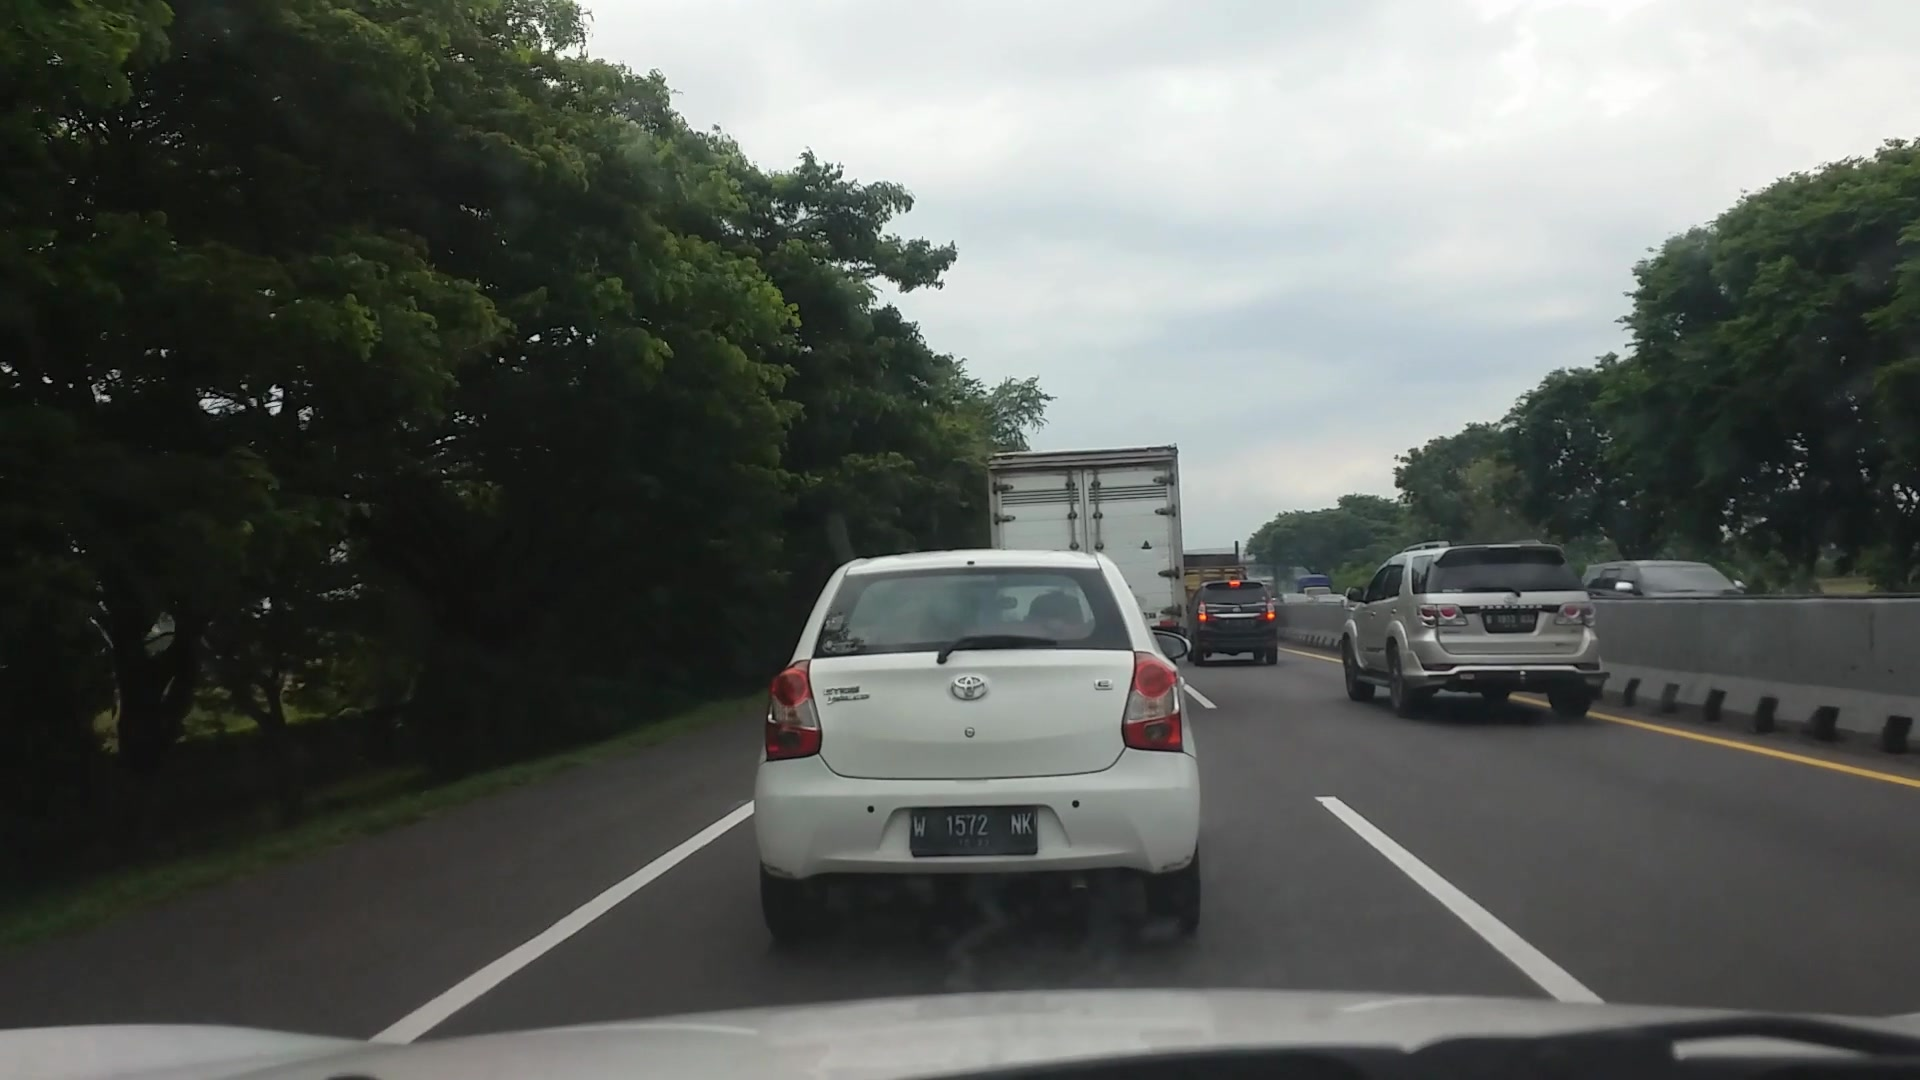plate_positive: (910, 804, 1038, 858), (1484, 611, 1535, 629)
